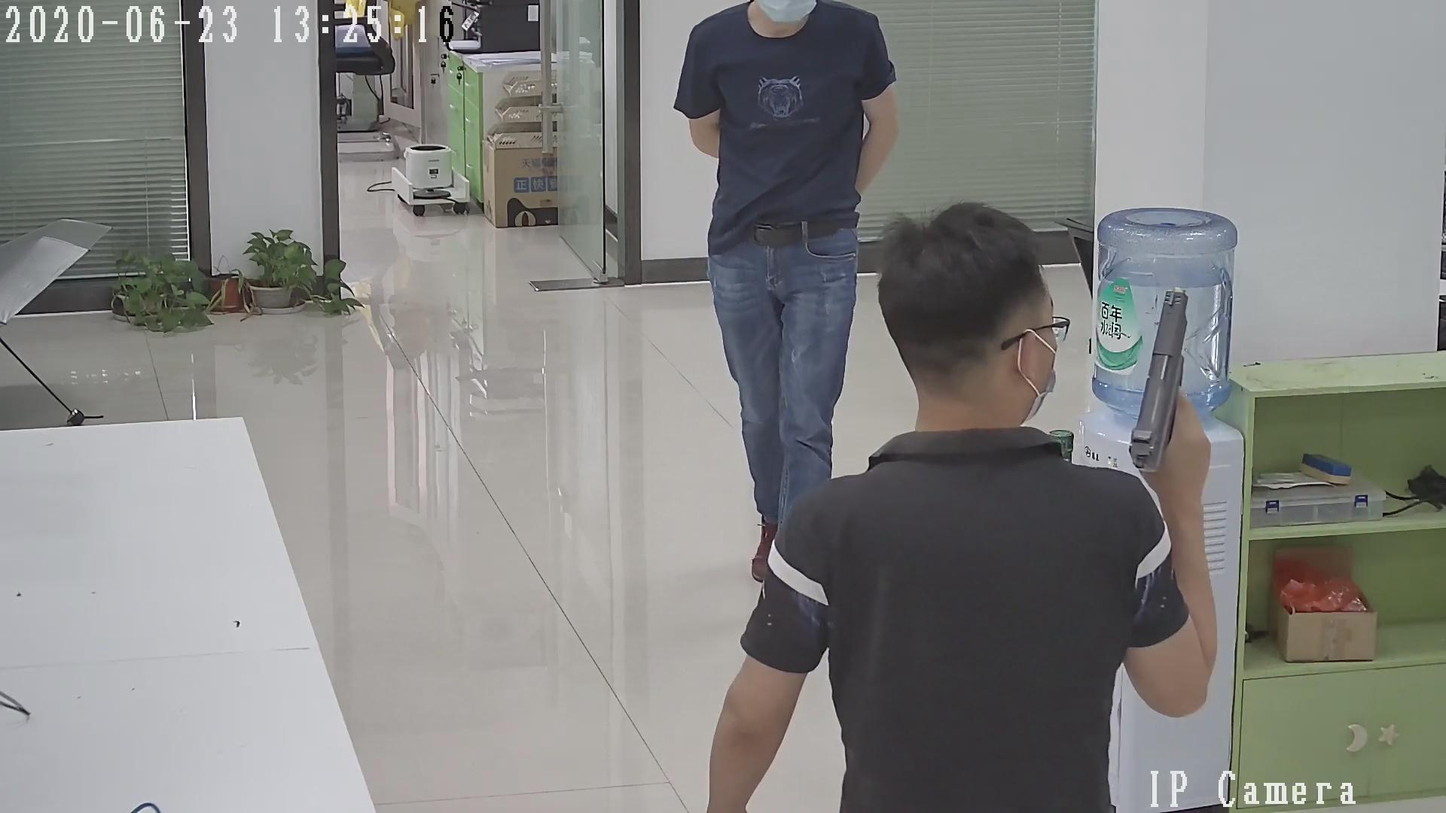gun: (1123, 282, 1217, 478)
